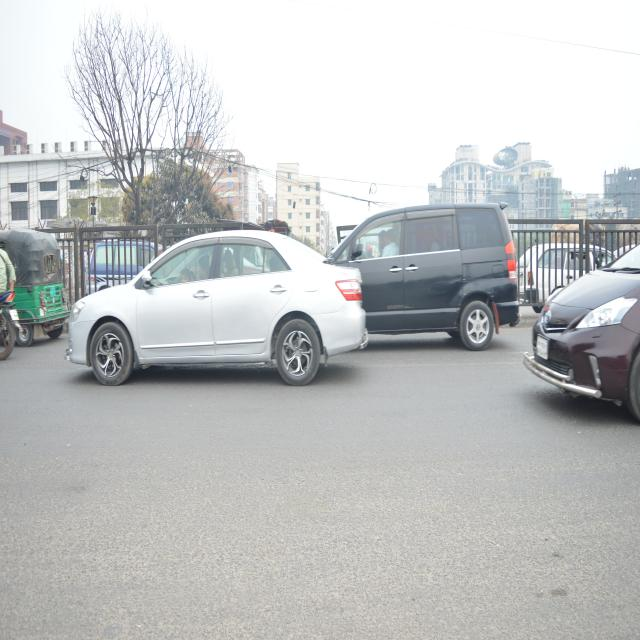car: (64, 206, 378, 387), (534, 248, 640, 407)
microbus: (321, 210, 526, 346), (84, 224, 171, 294), (529, 229, 607, 290)
